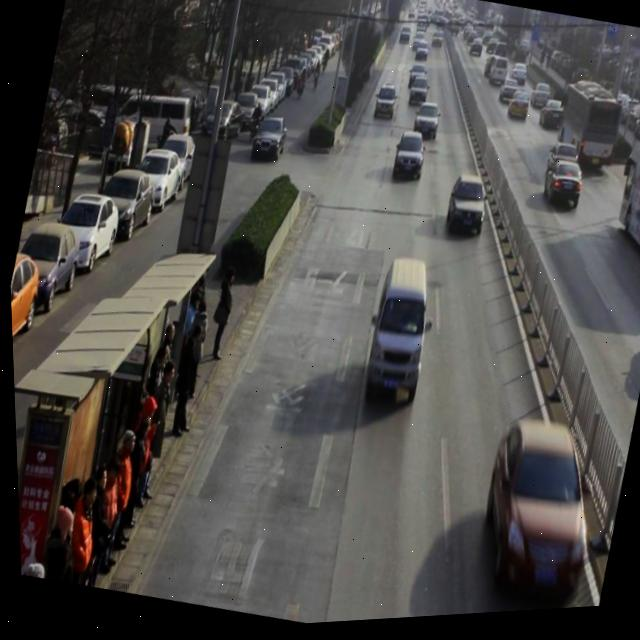car: (463, 418, 614, 619), (441, 178, 493, 248), (538, 165, 586, 222), (390, 135, 429, 190), (543, 147, 582, 193), (409, 104, 443, 153), (535, 104, 567, 142), (371, 89, 400, 129), (505, 95, 532, 130), (527, 88, 554, 121), (495, 82, 521, 116), (406, 80, 431, 115), (406, 69, 428, 99)
truck: (355, 260, 444, 417)
van: (546, 79, 623, 182), (599, 109, 640, 280)
